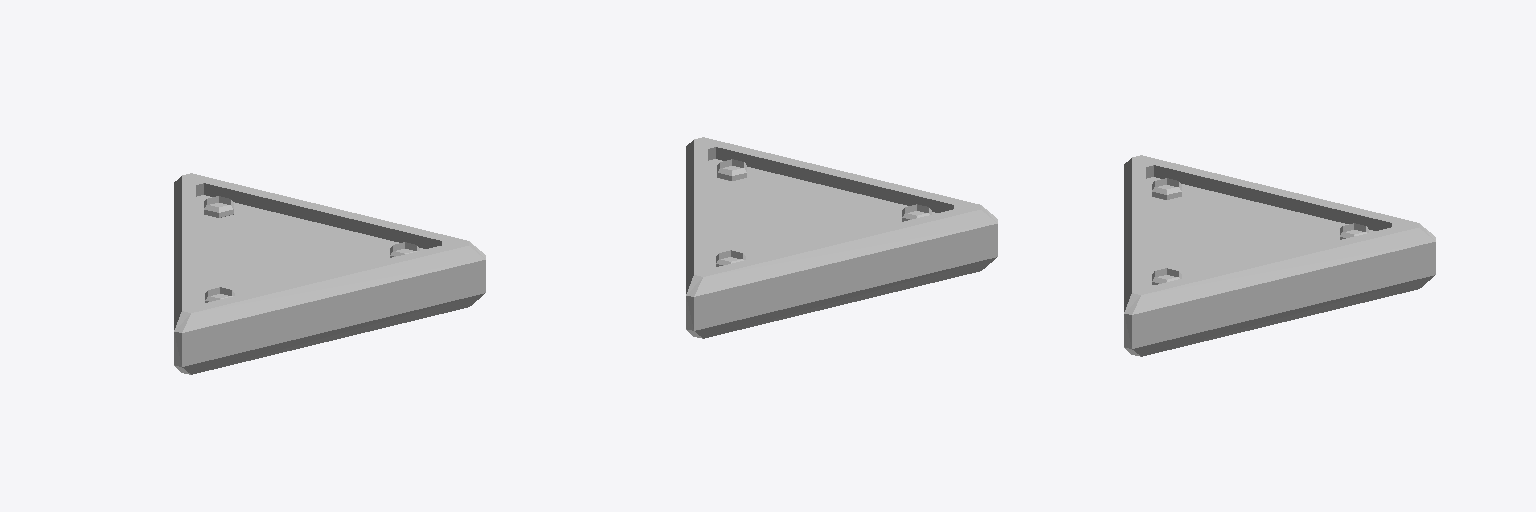
Rendered from Title_Triangle.obj.
3 renders of one model, left to right at view 1: azimuth 30°, elevation 25°; view 2: azimuth 150°, elevation 25°; view 3: azimuth 270°, elevation 25°, orthographic.
Visible parts, largest first — view 1: GamePlay_Triangle; view 2: GamePlay_Triangle; view 3: GamePlay_Triangle.
Part boxes in pixels (left/top/right/bottom): GamePlay_Triangle: left=174, top=173, right=485, bottom=374; GamePlay_Triangle: left=686, top=137, right=997, bottom=338; GamePlay_Triangle: left=1124, top=155, right=1435, bottom=356.
Bounding box in the file's own units: 1.69 × 0.3189 × 1.46.